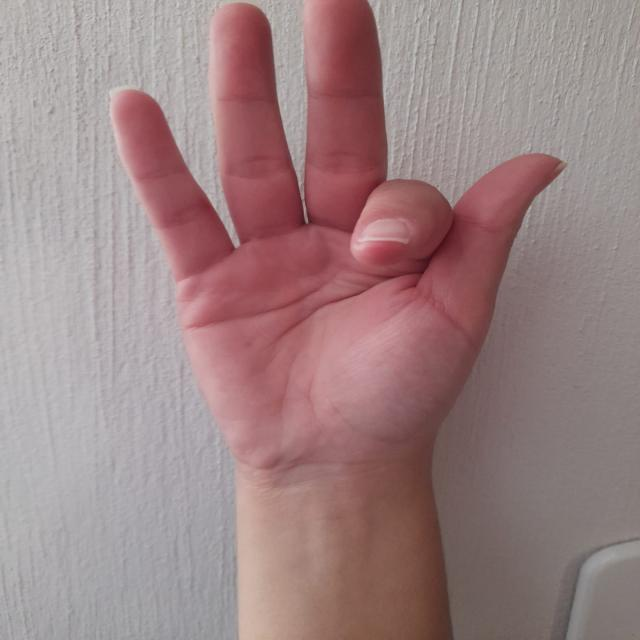F: (64, 0, 629, 472)
